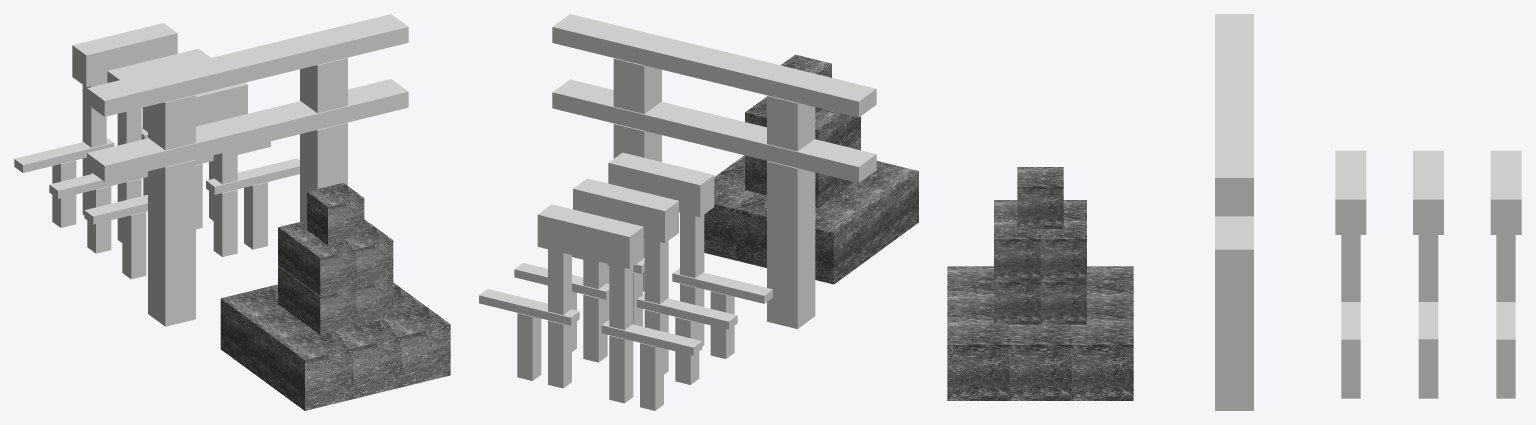
The picture shows the model from 3 angles, left to right: view 1: azimuth 30°, elevation 25°; view 2: azimuth 150°, elevation 25°; view 3: azimuth 270°, elevation 25°; orthographic projection. The views are drawn at different scales.
Parts seen in each view (by area): view 1: Cube.023, Cube.019, Cube.021, Cube.006, Cube.050, Cube.007, Cube.008, Cube.018, Cube.017, Cube.013, Cube.005, Cube.004 (+24 smaller); view 2: Cube.023, Cube.019, Cube.021, Cube.050, Cube.048, Cube.049, Cube.005, Cube.004, Cube.002, Cube.006, Cube.022, Cube.020 (+29 smaller); view 3: Cube.023, Cube.018, Cube.002, Cube.007, Cube.003, Cube.017, Cube.014, Cube.016, Cube.048, Cube.050, Cube.049, Cube.011 (+16 smaller).
Boxes of the visible parts, x1,y1,x2,y2 form: Cube.023: (87,14,408,116); Cube.019: (87,79,408,181); Cube.021: (148,160,195,326); Cube.006: (276,330,353,410); Cube.050: (72,23,177,87); Cube.007: (381,304,450,387); Cube.008: (332,320,401,398); Cube.018: (300,123,347,221); Cube.017: (307,183,364,245); Cube.013: (299,238,356,296); Cube.005: (220,286,285,369); Cube.004: (248,310,313,389); Cube.023: (552,14,876,117); Cube.019: (552,79,876,182); Cube.021: (767,161,815,328); Cube.050: (537,204,643,268); Cube.048: (608,152,714,217); Cube.049: (573,178,678,243); Cube.005: (815,203,862,284); Cube.004: (825,182,890,263); Cube.002: (704,176,757,260); Cube.006: (854,161,918,242); Cube.022: (613,58,661,113); Cube.020: (767,95,815,151); Cube.023: (1215,14,1253,195); Cube.018: (1215,267,1253,410); Cube.002: (1071,318,1133,400); Cube.007: (947,318,1009,400); Cube.003: (1009,324,1071,400); Cube.017: (1017,167,1063,228); Cube.014: (994,219,1040,281); Cube.016: (1040,219,1086,281); Cube.048: (1335,150,1366,234); Cube.050: (1490,150,1521,234); Cube.049: (1413,150,1443,234); Cube.011: (994,281,1040,324).
Bounding box in the file's own units: 5 × 3.78 × 7.4.
1 material, 1 textured.
